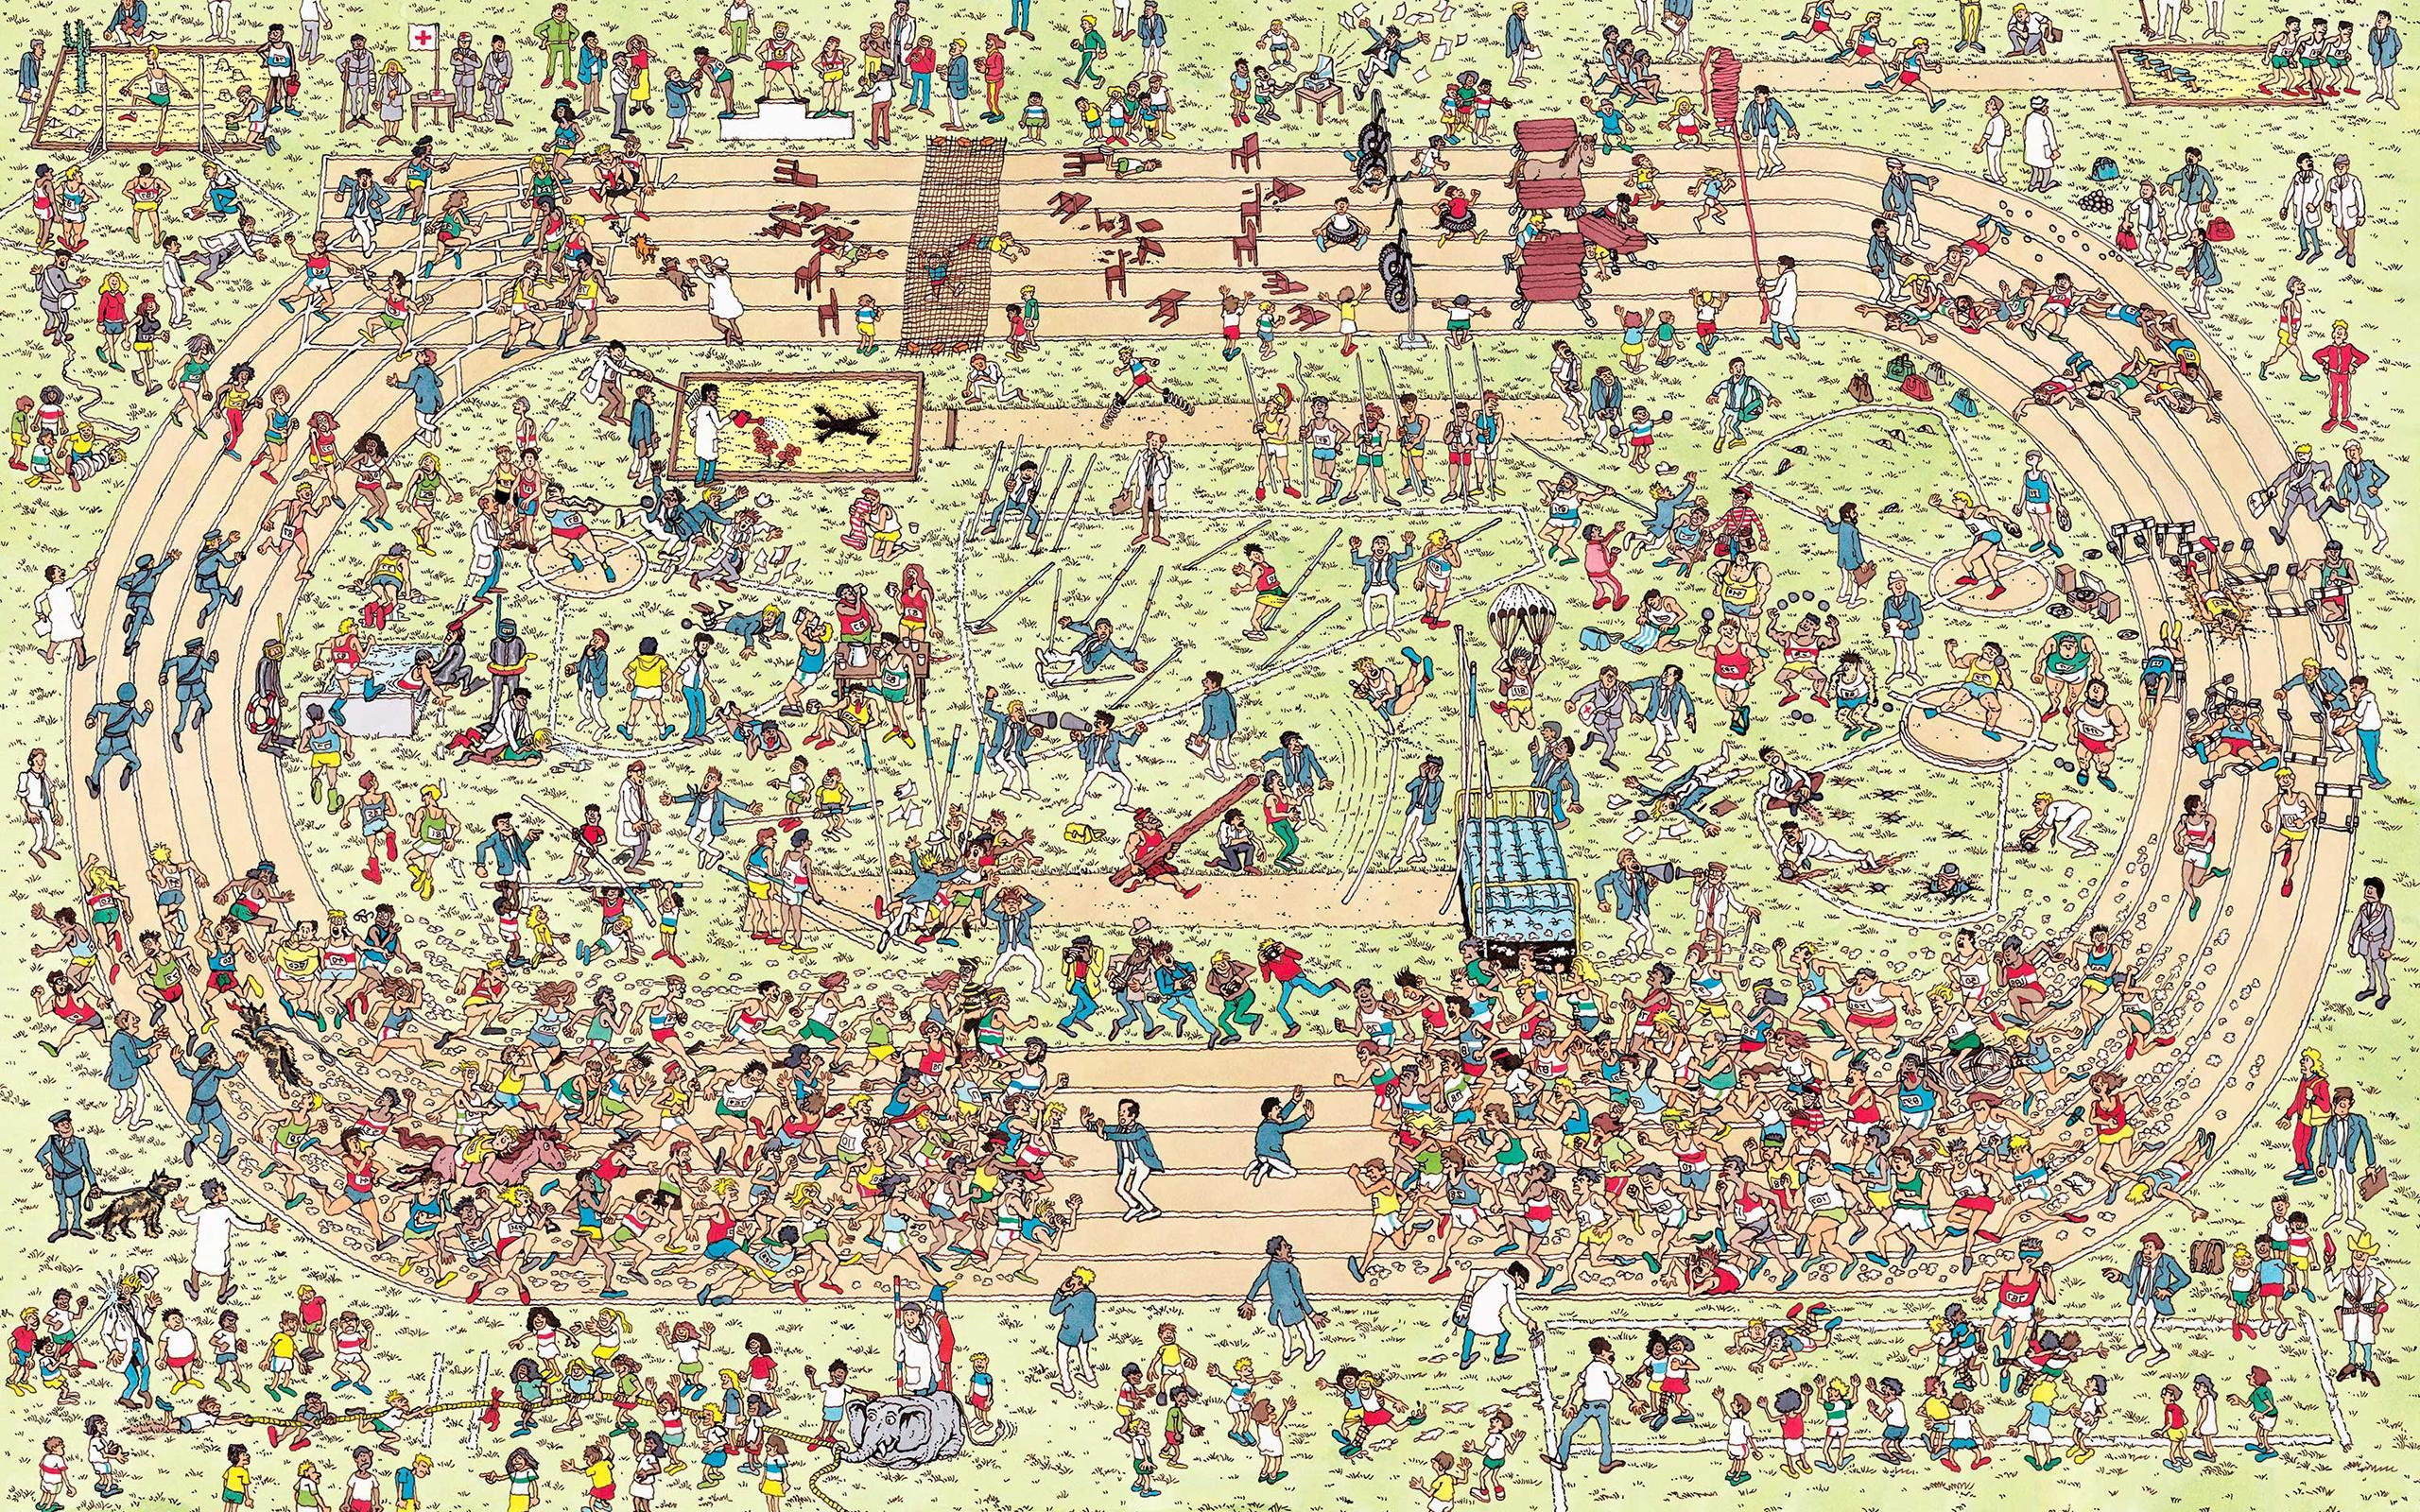waldos: (1707, 488, 1768, 561)
